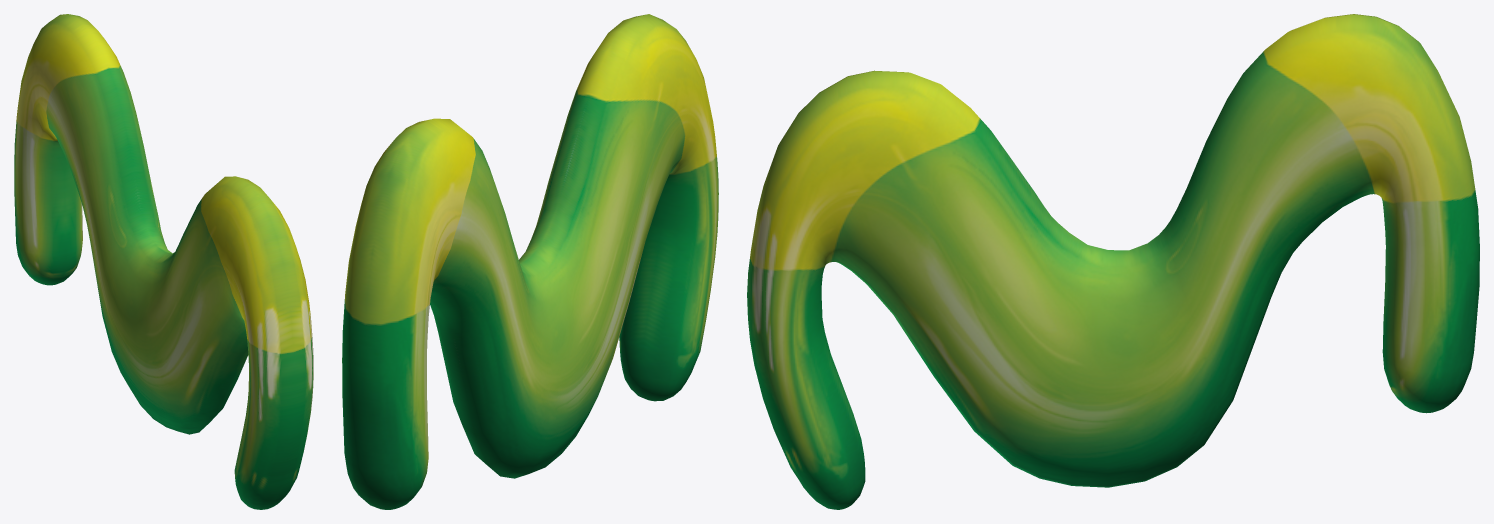
Rendered from Movistar.dae.
The picture shows the model from 3 angles, left to right: view 1: azimuth 30°, elevation 25°; view 2: azimuth 150°, elevation 25°; view 3: azimuth 270°, elevation 25°; orthographic projection. The views are drawn at different scales.
Visible parts, largest first — view 1: Circle; view 2: Circle; view 3: Circle.
Boxes of the visible parts, box(x1,y1,x2,y2) form: Circle: box(14, 14, 313, 509); Circle: box(342, 14, 718, 509); Circle: box(747, 14, 1479, 509).
Size of the model in its own units: 1.04 by 8.03 by 5.94.
1 material, 1 textured.
